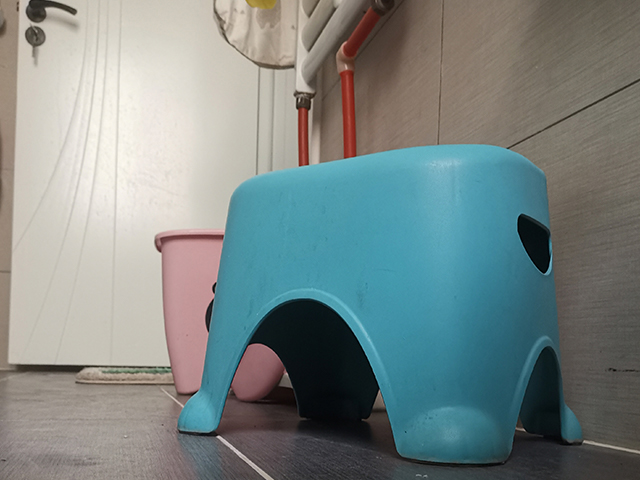carpet: (73, 366, 177, 387)
stool: (175, 142, 585, 468)
